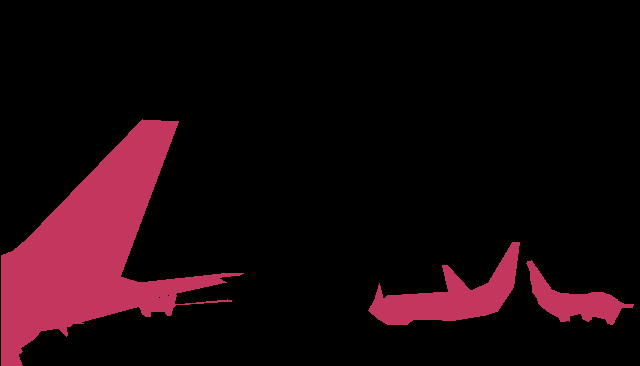Airplane: (1, 119, 244, 366), (368, 242, 520, 325), (526, 260, 633, 325), (139, 293, 232, 316)
